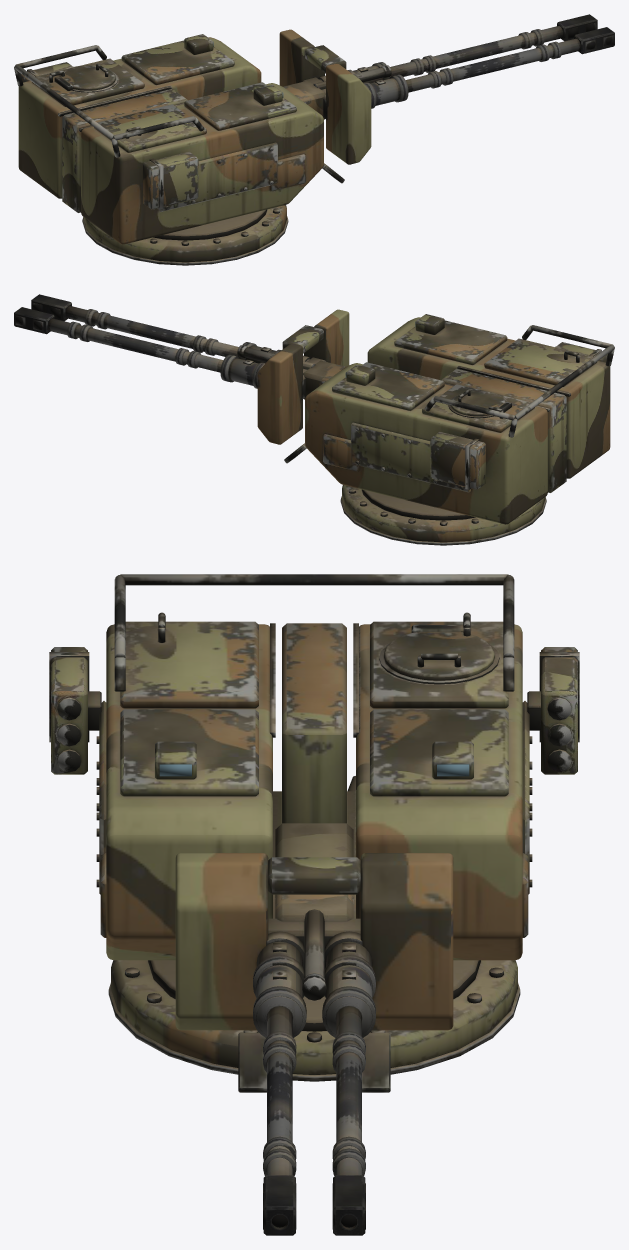
The model's file is turret_kit_t2_steppe.glb.
The picture shows the model from 3 angles, top to bottom: view 1: azimuth 30°, elevation 25°; view 2: azimuth 150°, elevation 25°; view 3: azimuth 270°, elevation 25°; orthographic projection. The views are drawn at different scales.
Visible parts, largest first — view 1: turret_twin_t2, guns, pods; view 2: turret_twin_t2, guns, pods; view 3: turret_twin_t2, guns, pods.
Boxes of the visible parts, box(x1,y1,x2,y2) form: turret_twin_t2: box(14, 29, 371, 265); guns: box(283, 14, 614, 119); pods: box(21, 62, 198, 209); turret_twin_t2: box(257, 309, 614, 545); guns: box(14, 294, 345, 399); pods: box(430, 342, 607, 489); turret_twin_t2: box(96, 574, 532, 1092); guns: box(253, 823, 375, 1235); pods: box(49, 647, 579, 774).
Size of the model in its own units: 2.7 by 0.722 by 1.15.
Materials: 4 (3 with a texture image).
